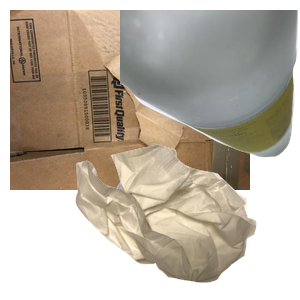cardboard: (10, 10, 250, 190)
glass: (120, 10, 300, 160)
plastic: (110, 164, 300, 300)
trash: (73, 142, 300, 300)
